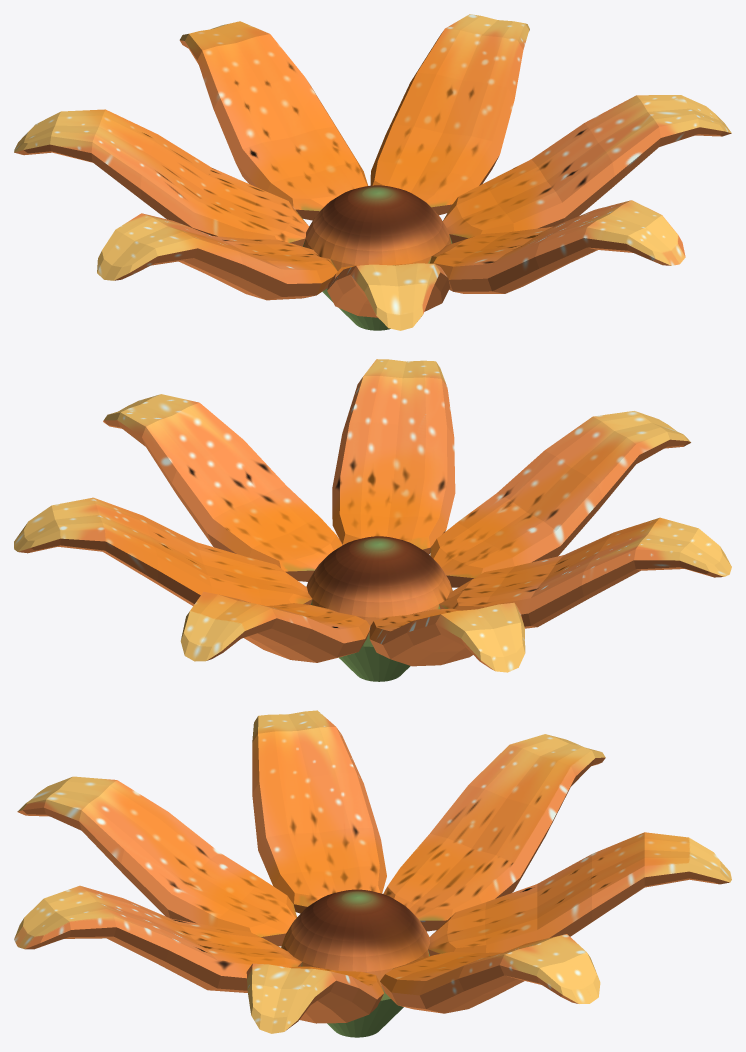
The model's file is Flower.fbx.
3 views of the same model, one above another, from view 1: azimuth 30°, elevation 25°; view 2: azimuth 150°, elevation 25°; view 3: azimuth 270°, elevation 25° (orthographic).
Visible parts, largest first — view 1: Sphere; view 2: Sphere; view 3: Sphere.
Boxes of the visible parts, x1,y1,x2,y2 form: Sphere: [14, 14, 731, 330]; Sphere: [14, 359, 731, 681]; Sphere: [14, 710, 731, 1037].
Size of the model in its own units: 524 by 141 by 513.
